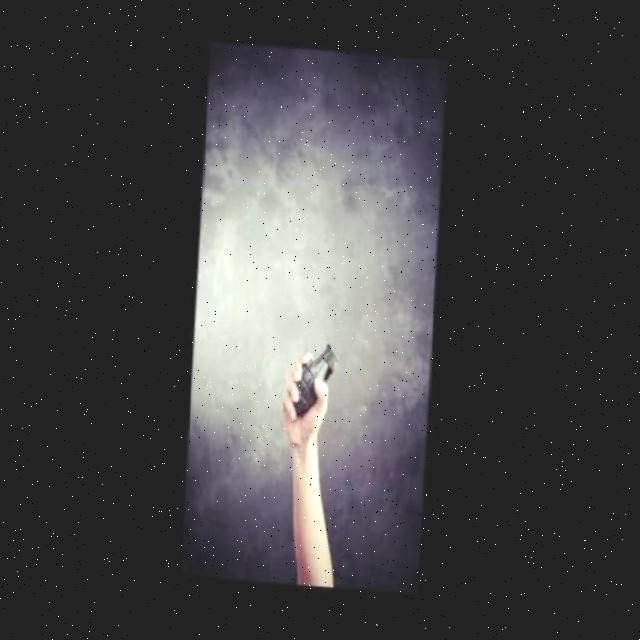grenade: (276, 332, 345, 430)
